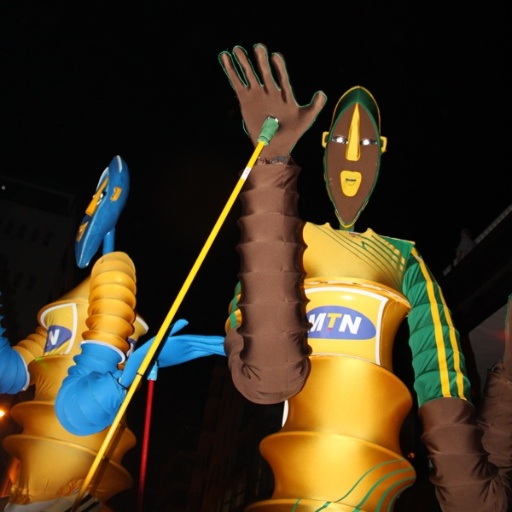hand: (217, 39, 332, 133)
